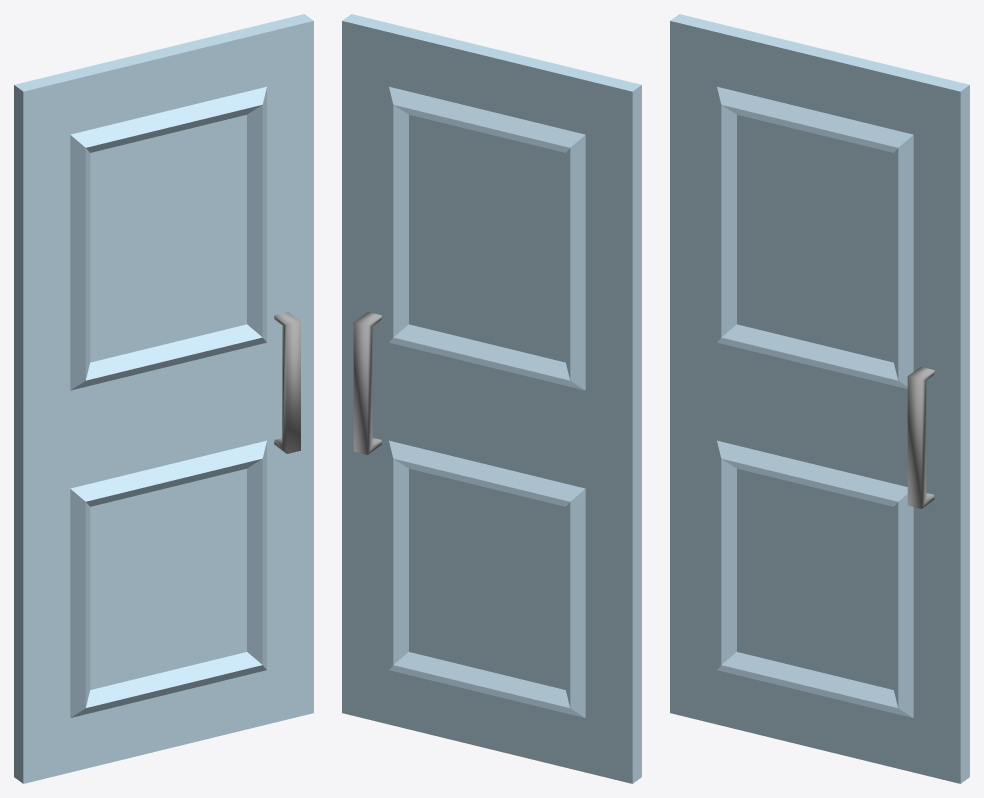
Rendered from Porta.fbx.
3 renders of one model, left to right at view 1: azimuth 30°, elevation 25°; view 2: azimuth 150°, elevation 25°; view 3: azimuth 330°, elevation 25°, orthographic.
Visible parts, largest first — view 1: Porta; view 2: Porta; view 3: Porta.
Boxes of the visible parts, x1,y1,x2,y2 form: Porta: [14, 14, 313, 783]; Porta: [342, 14, 641, 783]; Porta: [670, 14, 969, 783].
Bounding box in the file's own units: 89.45 × 204 × 19.52.
